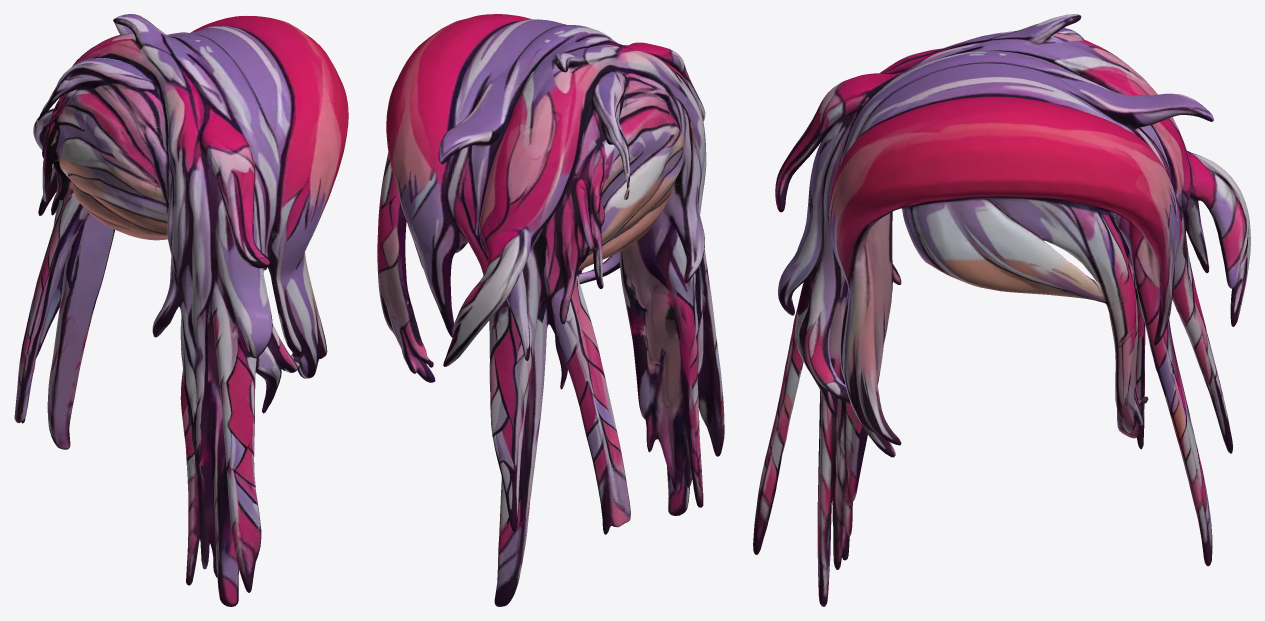
Rendered from E011NaoHair.glb.
3 views of the same model, side by side, from view 1: azimuth 30°, elevation 25°; view 2: azimuth 150°, elevation 25°; view 3: azimuth 270°, elevation 25° (orthographic). The views are drawn at different scales.
Parts seen in each view (by area): view 1: tripo_node_8483cab0-6423-4b71-a859-1dd22cfbd747; view 2: tripo_node_8483cab0-6423-4b71-a859-1dd22cfbd747; view 3: tripo_node_8483cab0-6423-4b71-a859-1dd22cfbd747.
Part boxes in pixels (x1,y1,x2,y2): tripo_node_8483cab0-6423-4b71-a859-1dd22cfbd747: (14, 14, 348, 606); tripo_node_8483cab0-6423-4b71-a859-1dd22cfbd747: (377, 14, 724, 606); tripo_node_8483cab0-6423-4b71-a859-1dd22cfbd747: (753, 14, 1250, 606).
Bounding box in the file's own units: 0.4983 × 0.9491 × 0.7254.
Materials: 1 (1 with a texture image).
